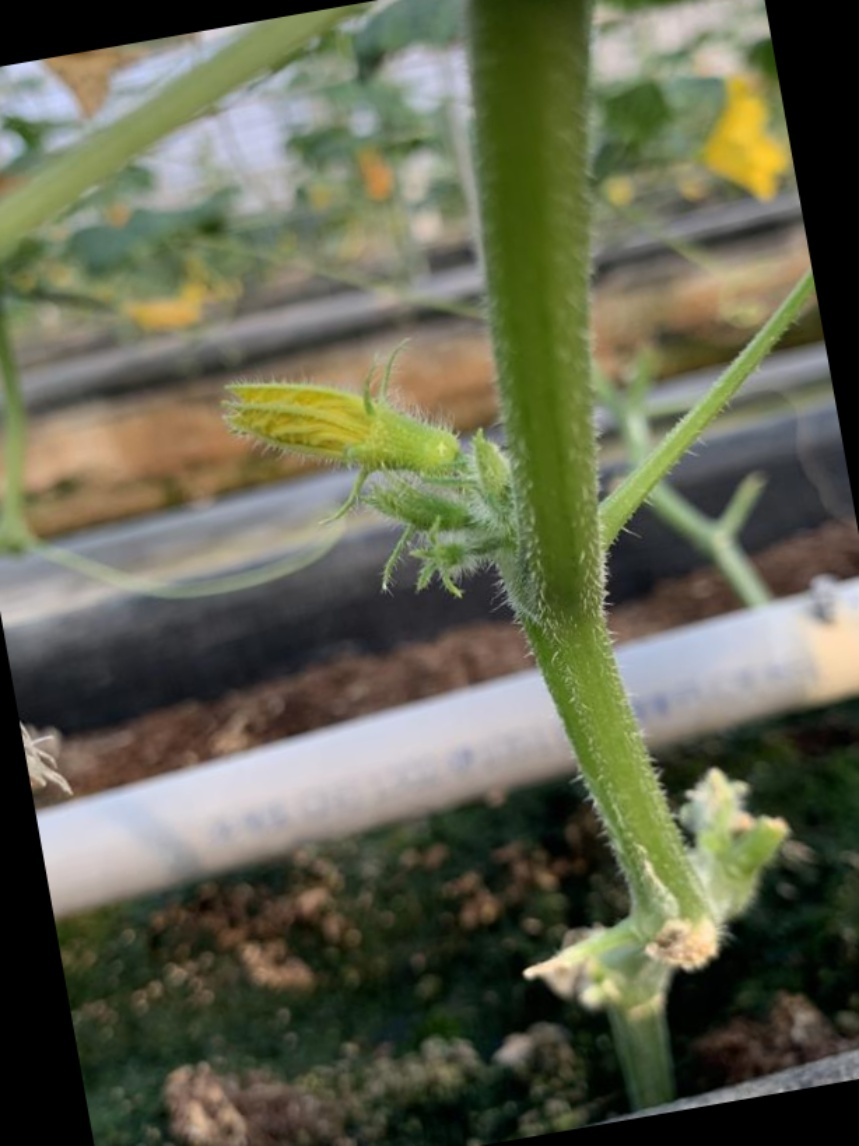bud: (219, 338, 458, 522)
